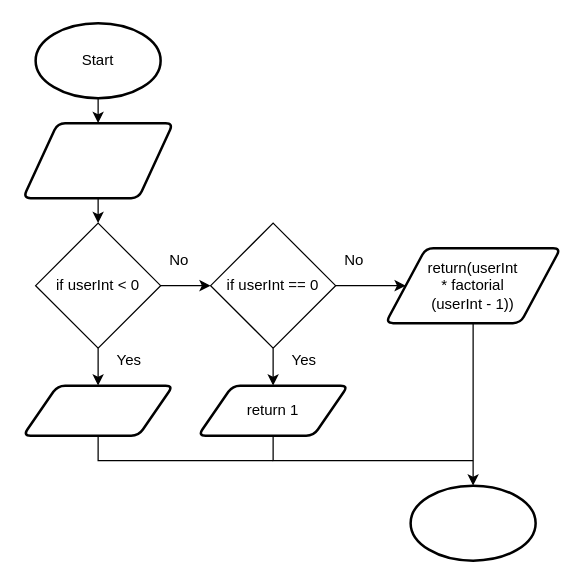
Image size: 583x583. Some labels were removed from this diagram. Here are the shapes that lost their labels. From the top down, the centre of each, then its label:
At (97,160): "get userInt: int".
At (97,410): "return -1".
At (472,522): "Stop".
